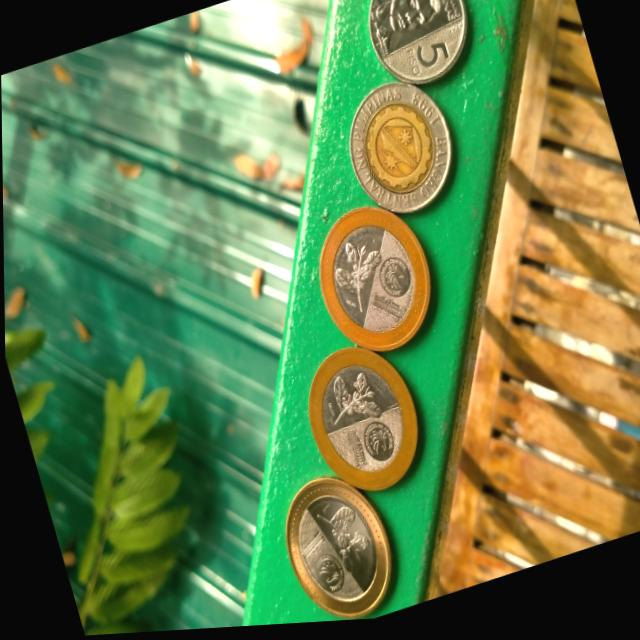10_Old_Back: (330, 66, 468, 229)
20_New_Back: (308, 230, 392, 324), (303, 494, 378, 590), (312, 361, 386, 448)
5_New_Front: (392, 23, 469, 95)
